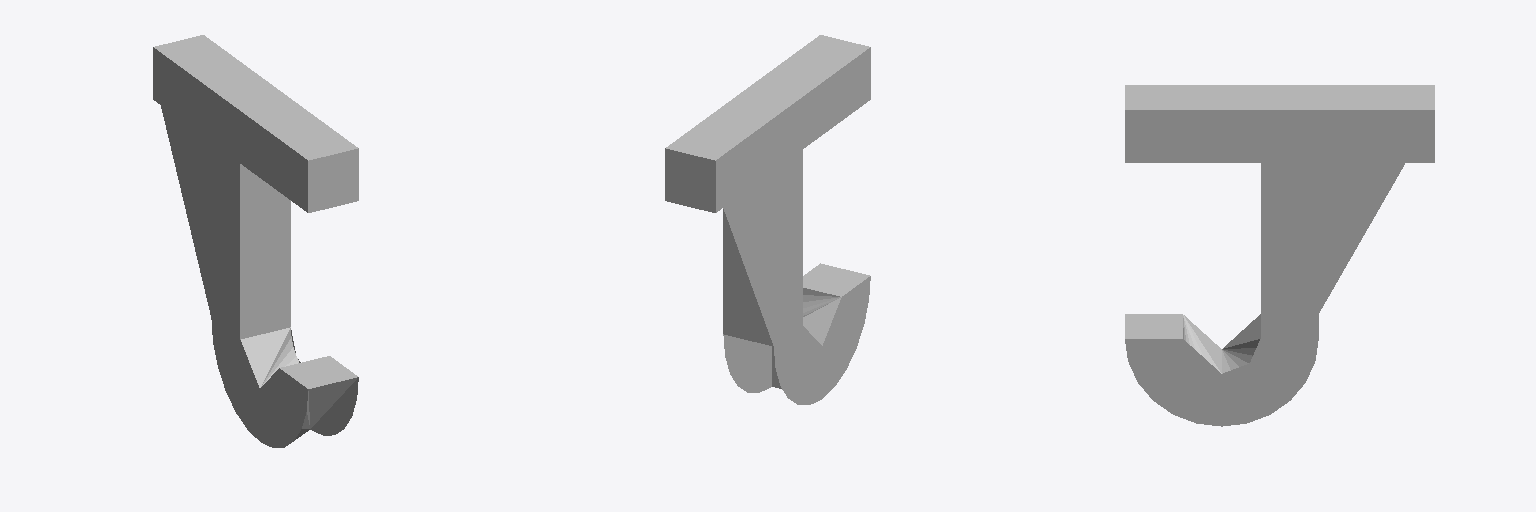
File: outlined.obj
The picture shows the model from 3 angles: view 1: azimuth 30°, elevation 25°; view 2: azimuth 150°, elevation 25°; view 3: azimuth 270°, elevation 25°; orthographic projection.
Visible parts, largest first — view 1: 000_Merged_Objects; view 2: 000_Merged_Objects; view 3: 000_Merged_Objects.
Boxes of the visible parts, x1,y1,x2,y2 form: 000_Merged_Objects: [153, 35, 358, 447]; 000_Merged_Objects: [665, 35, 870, 404]; 000_Merged_Objects: [1125, 85, 1434, 426].
Size of the model in its own units: 150 by 900 by 800.